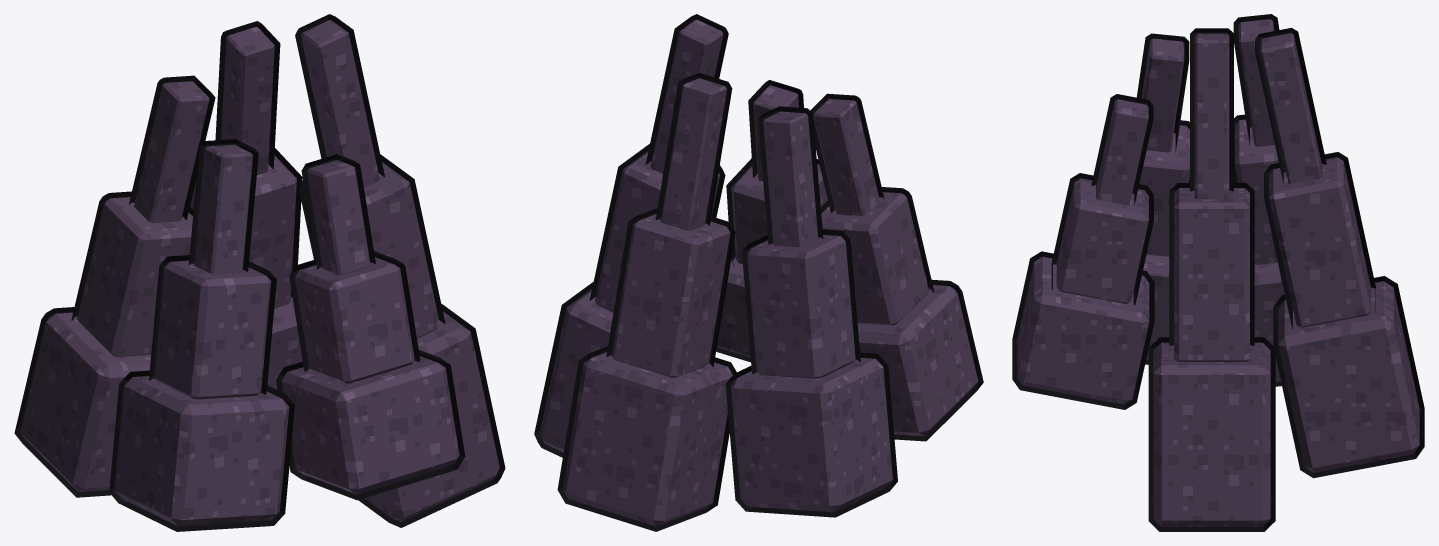
Rendered from env_volcano_obsidian_spike.glb.
3 views of the same model, side by side, from view 1: azimuth 30°, elevation 25°; view 2: azimuth 150°, elevation 25°; view 3: azimuth 270°, elevation 25° (orthographic). The views are drawn at different scales.
Visible parts, largest first — view 1: model; view 2: model; view 3: model.
Boxes of the visible parts, bbox=[...] form: model: bbox=[14, 14, 505, 531]; model: bbox=[534, 14, 983, 531]; model: bbox=[1012, 14, 1424, 531].
Size of the model in its own units: 1.27 by 1.55 by 1.27.
Materials: 2 (1 with a texture image).
